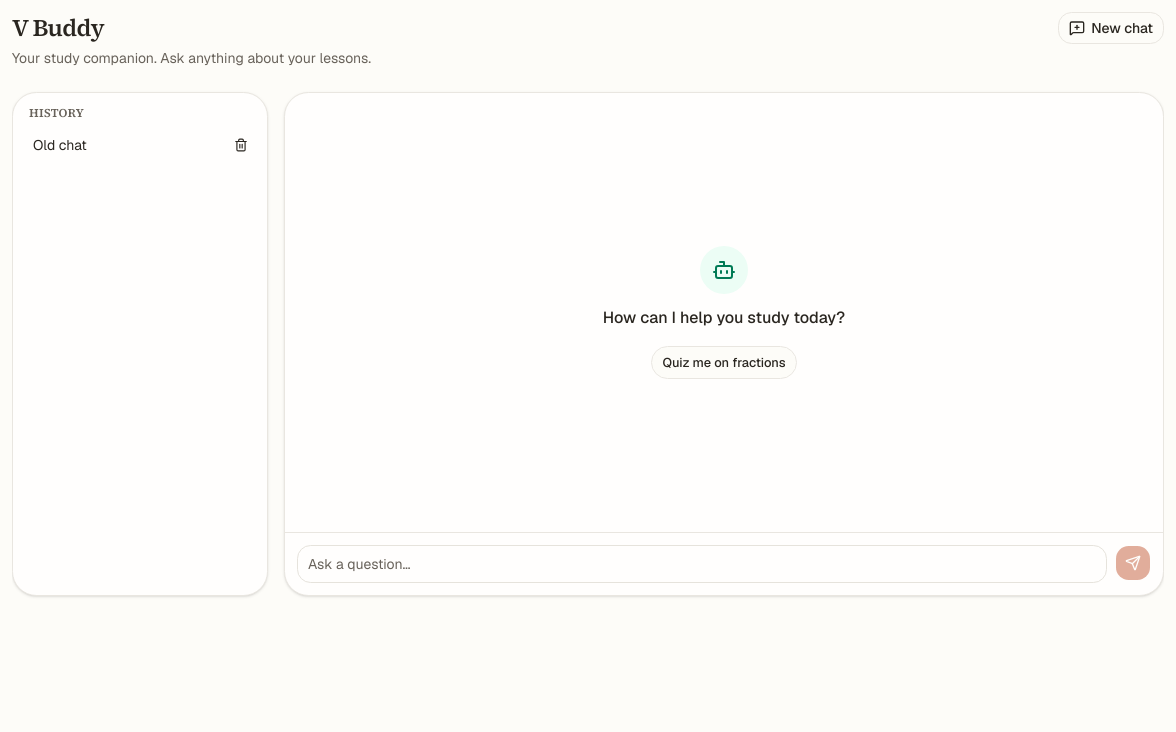
Test: VBuddyPage › sends a message and shows the reply, reusing the conversation id
Type "Hi" into the text box named "Message V Buddy" at [702, 564], box [297,545,1107,583]
Then press Enter
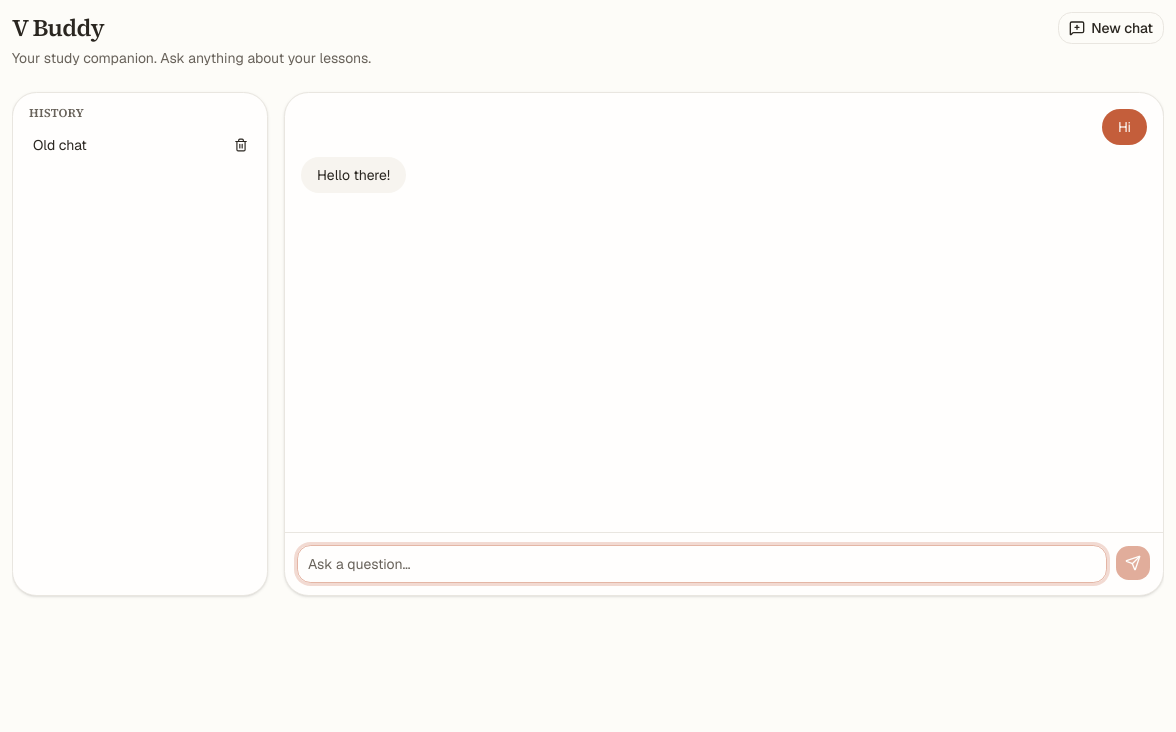
Result: the text "Hello there!" is shown at [301,157,406,193]
Type "More" into the text box named "Message V Buddy" at [702, 564], box [297,545,1107,583]
Then press Enter
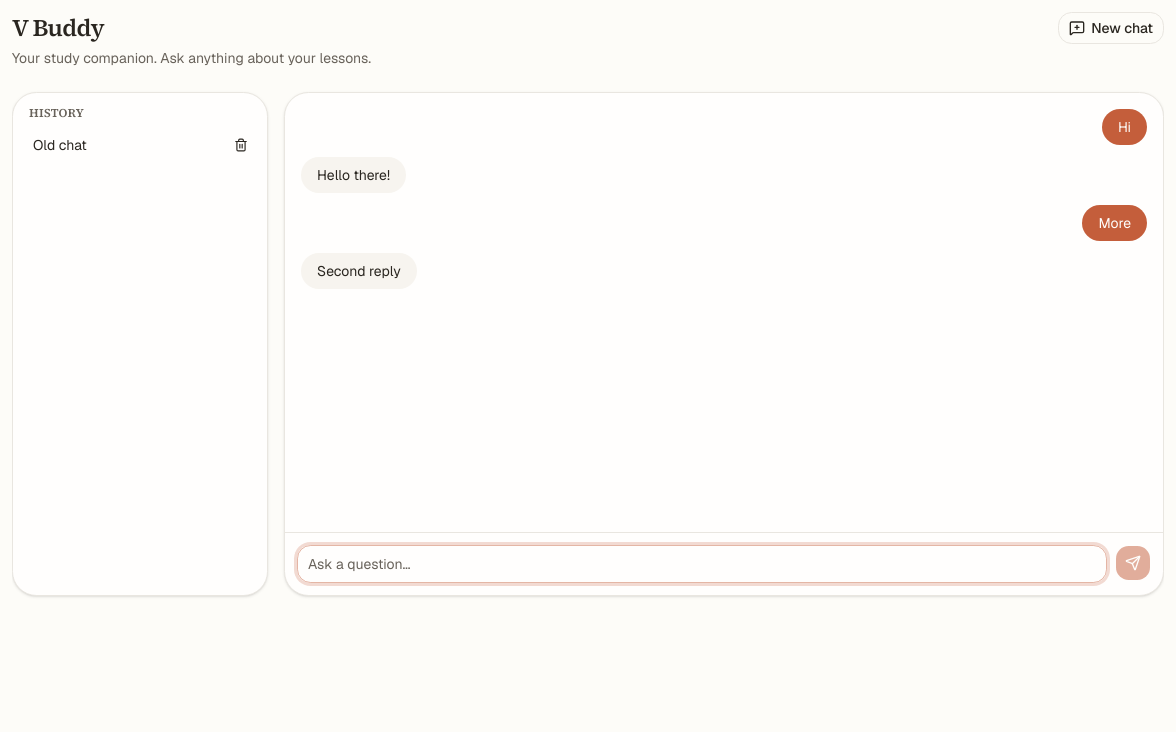
Result: the text "Second reply" is shown at [301,253,417,289]
